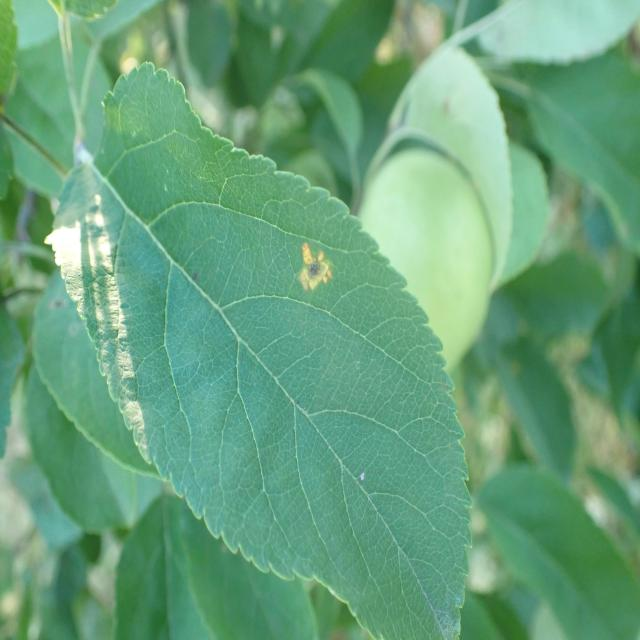Rust: (287, 226, 347, 298)
